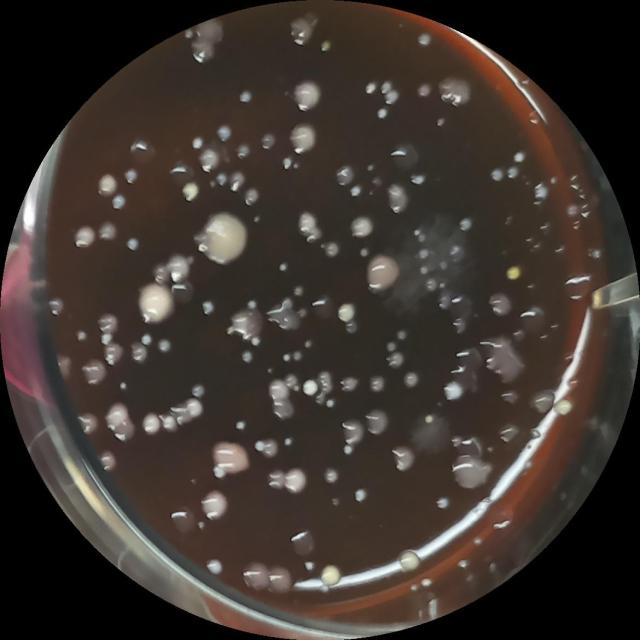Staphylococcus: (506, 263, 524, 283)
